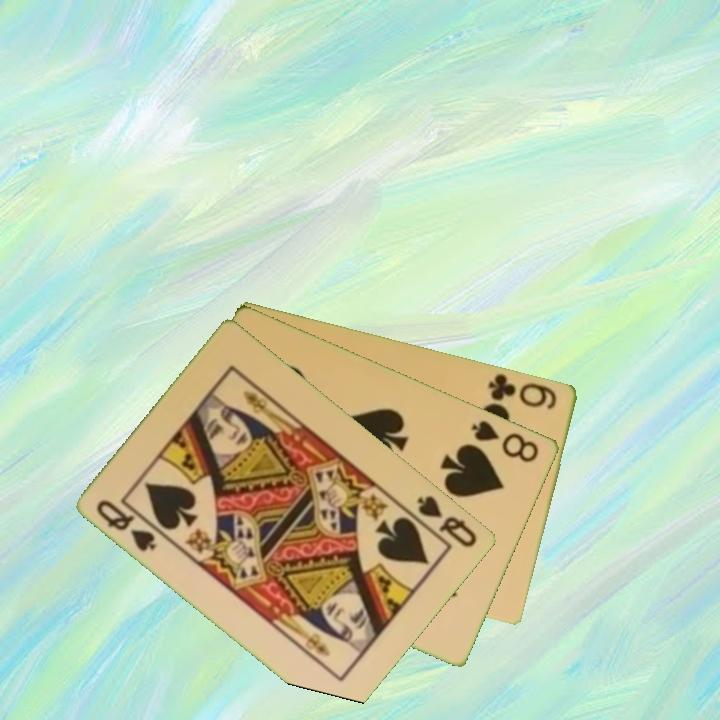6c: (485, 369, 560, 413)
8s: (468, 416, 542, 466)
Qs: (93, 496, 167, 555), (414, 492, 481, 551)
